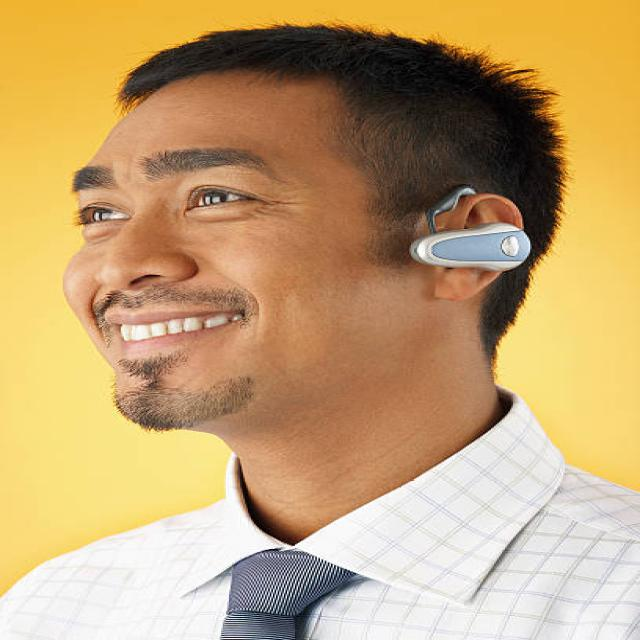airpods: (408, 187, 535, 273)
